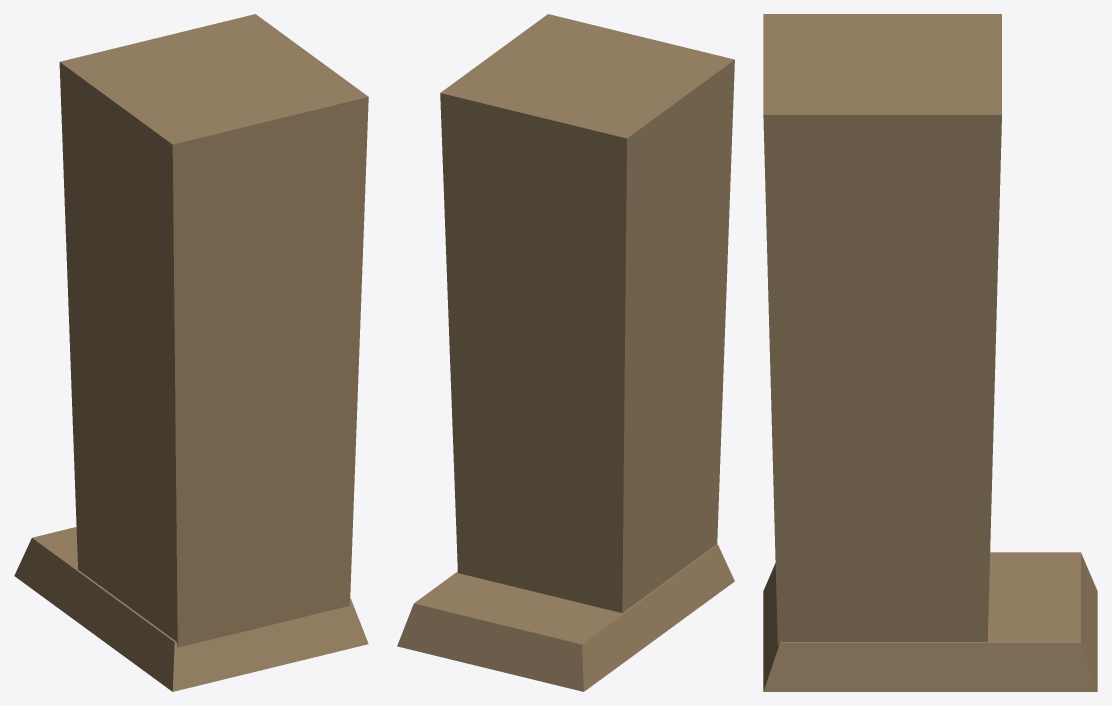
File: animal_wolf_great_leg.obj
3 views of the same model, side by side, from view 1: azimuth 30°, elevation 25°; view 2: azimuth 150°, elevation 25°; view 3: azimuth 270°, elevation 25° (orthographic). The views are drawn at different scales.
Visible parts, largest first — view 1: animal_wolf_great_leg; view 2: animal_wolf_great_leg; view 3: animal_wolf_great_leg.
Boxes of the visible parts, x1=… form: animal_wolf_great_leg: x1=14, y1=14, x2=368, y2=691; animal_wolf_great_leg: x1=397, y1=14, x2=734, y2=691; animal_wolf_great_leg: x1=763, y1=14, x2=1097, y2=691.
Size of the model in its own units: 0.1724 by 0.46 by 0.2414.
